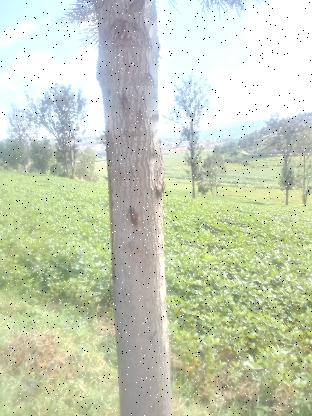tree: (85, 0, 180, 416)
